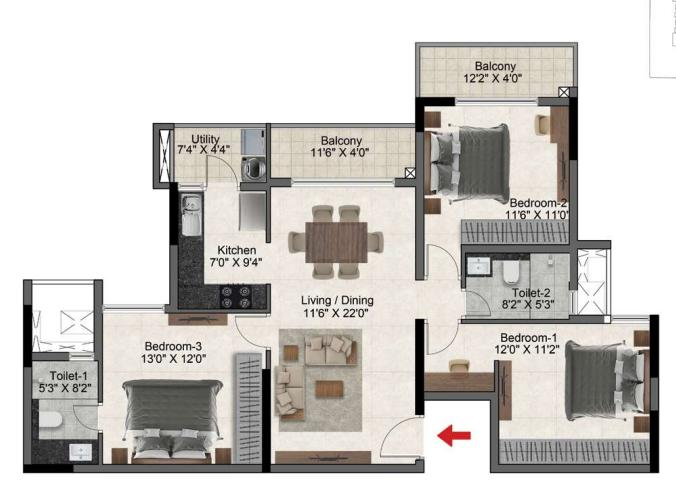Balcony: (420, 46, 576, 101), (270, 126, 419, 183)
Bed: (124, 379, 218, 464), (422, 122, 511, 204), (567, 339, 653, 422)
Bedroom: (106, 310, 269, 470), (497, 325, 656, 473), (422, 101, 572, 244)
Dining Room: (266, 184, 419, 312)
Dining table: (287, 198, 387, 284)
Kitchen: (174, 196, 270, 309)
Living Room: (270, 314, 419, 465)
Sofa: (299, 332, 359, 365), (274, 367, 307, 416)
Wardrobe: (231, 350, 267, 463), (498, 441, 652, 465), (459, 219, 573, 246)
commode: (503, 261, 521, 286), (39, 411, 64, 428)
door: (381, 416, 424, 454), (235, 309, 268, 353), (422, 242, 456, 281), (425, 320, 460, 356), (205, 154, 239, 188), (461, 289, 492, 316), (77, 401, 101, 428)
fridge: (238, 193, 266, 232)
kitchen-slab: (175, 190, 204, 308), (177, 284, 270, 311)
sink: (182, 196, 201, 236), (467, 256, 489, 275), (71, 445, 90, 460)
stove: (222, 285, 252, 309)
toilet: (462, 254, 574, 318), (34, 359, 98, 462)
tv: (278, 451, 372, 470), (168, 308, 226, 330), (555, 145, 573, 199), (497, 361, 511, 421)
utility: (175, 126, 267, 190)
wash: (425, 321, 493, 393)
washing-machine: (242, 155, 266, 182)
